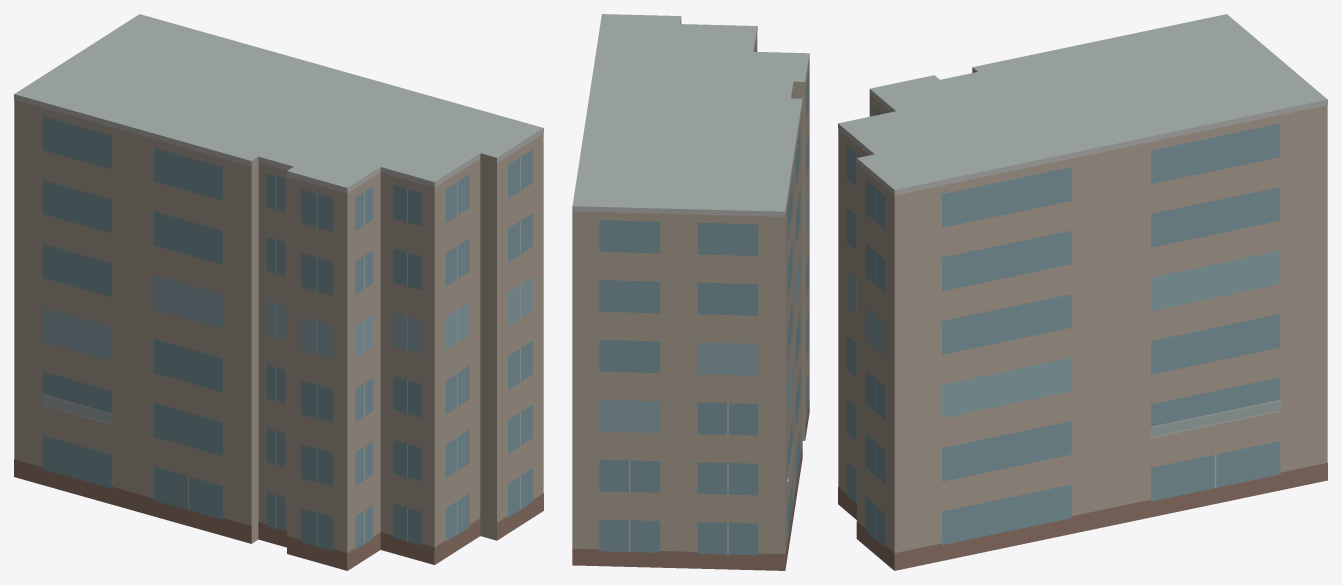
Rendered from survey-upis-32667758.glb.
3 views of the same model, side by side, from view 1: azimuth 30°, elevation 25°; view 2: azimuth 150°, elevation 25°; view 3: azimuth 270°, elevation 25° (orthographic). The views are drawn at different scales.
Parts seen in each view (by area): view 1: survey-upis-32667758.tmp; view 2: survey-upis-32667758.tmp; view 3: survey-upis-32667758.tmp.
Boxes of the visible parts, <box> form: survey-upis-32667758.tmp: <box>14,14,543,570</box>; survey-upis-32667758.tmp: <box>572,14,809,570</box>; survey-upis-32667758.tmp: <box>838,14,1327,570</box>.
Size of the model in its own units: 16.76 by 16.9 by 19.7.
